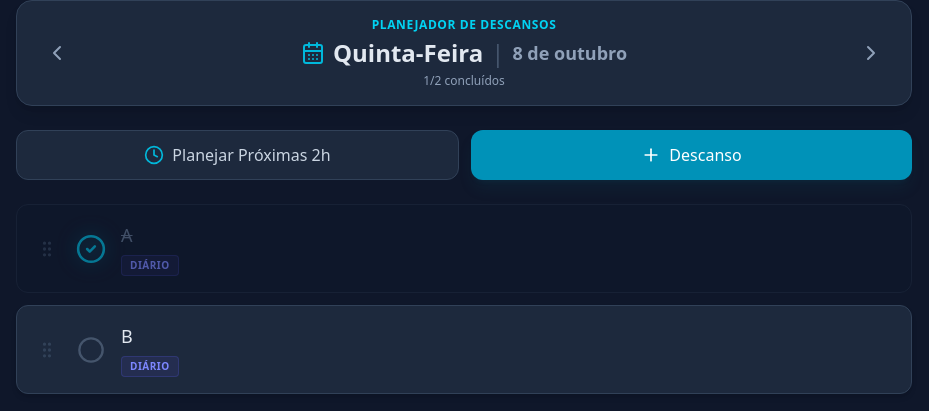
Test: RestView - date navigation and progress › shows day progress and a "Voltar para hoje" shortcut after navigating
Expected: the text with test id "rest-day-progress" reads "1/2 concluídos", [423, 73, 505, 89]
Expected: the text "Voltar para hoje" is not shown
Step 1. Click the button named "Próximo dia" → [871, 53], box [847, 29, 895, 77]
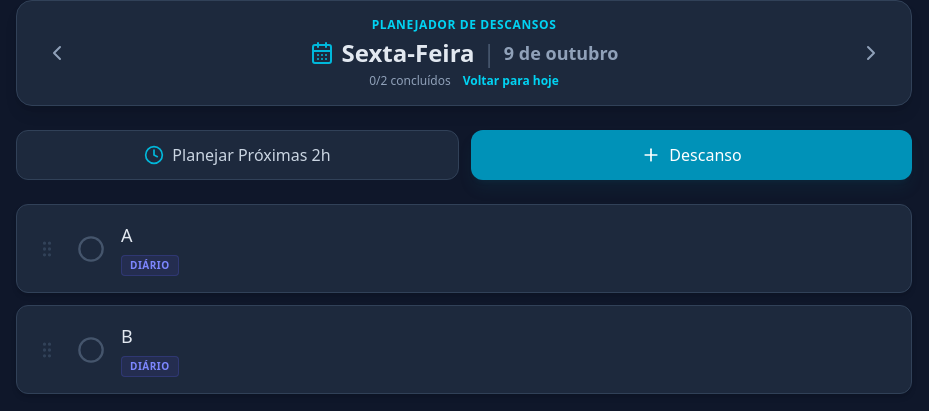
Result: the text with test id "rest-day-progress" reads "0/2 concluídos" at [369, 73, 451, 89]
Step 2. Click the button "Voltar para hoje" → [511, 81], box [463, 73, 559, 89]
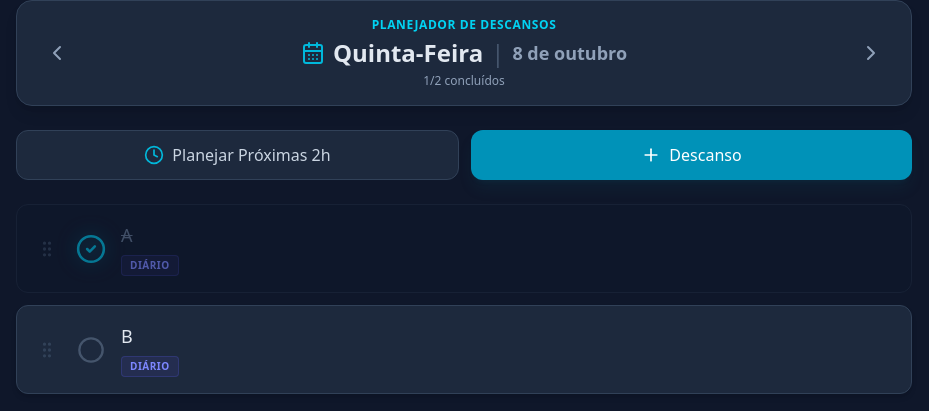
Result: the text with test id "rest-day-progress" reads "1/2 concluídos" at [423, 73, 505, 89]
Result: the button "Voltar para hoje" is gone
